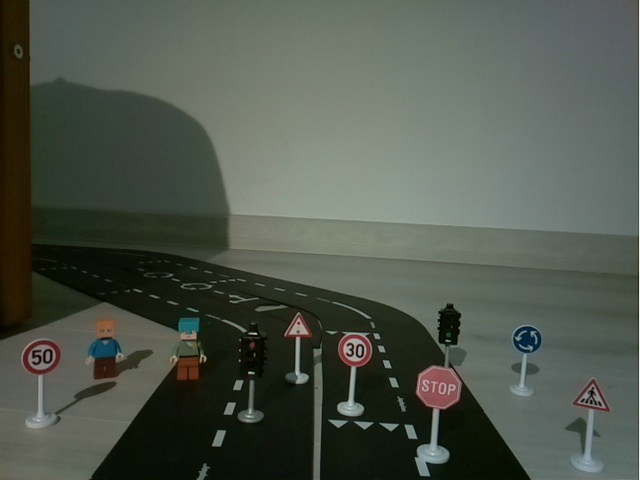green light: (432, 299, 466, 365)
limit 30: (331, 328, 376, 424)
limit 50: (18, 335, 66, 430)
pedestrian sign: (565, 371, 616, 474)
person: (81, 316, 129, 385), (170, 314, 211, 384)
red light: (234, 322, 270, 428)
round: (504, 320, 549, 403)
stop: (413, 367, 462, 467)
traffic light sign: (280, 309, 315, 386)
